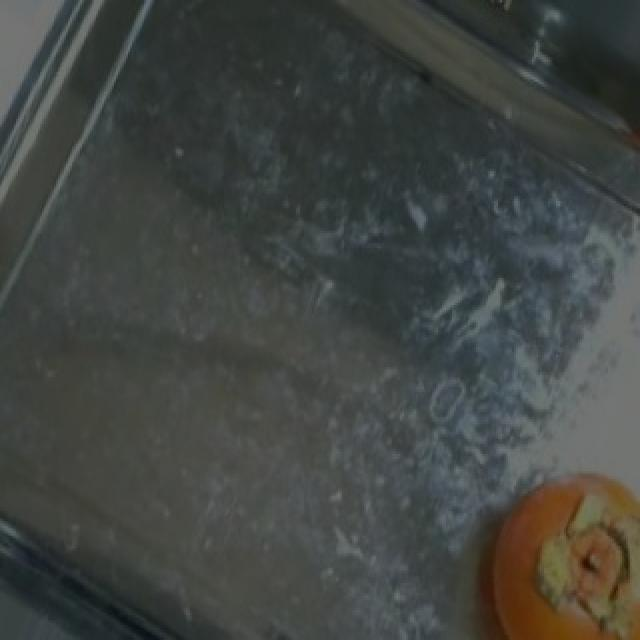Fruit: (448, 452, 640, 638)
